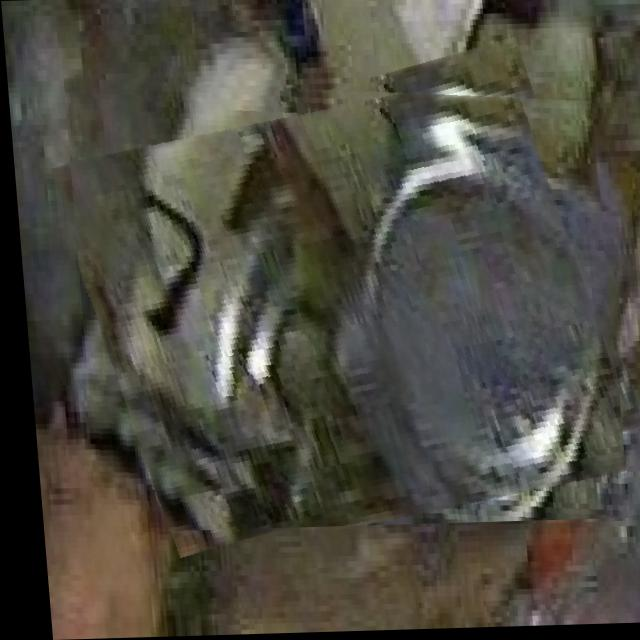litter: (61, 64, 621, 533)
